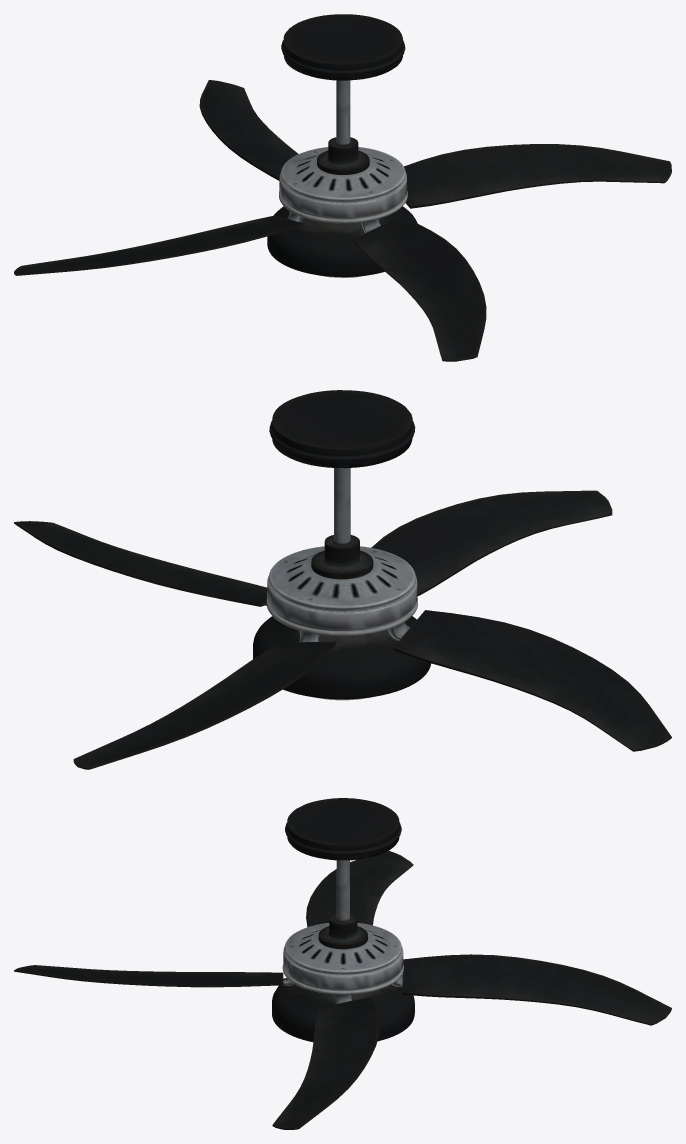
The model's file is ceiling_fan.glb.
3 renders of one model, top to bottom at view 1: azimuth 30°, elevation 25°; view 2: azimuth 150°, elevation 25°; view 3: azimuth 270°, elevation 25°, orthographic. The views are drawn at different scales.
Parts seen in each view (by area): view 1: ceiling_fan; view 2: ceiling_fan; view 3: ceiling_fan.
Part boxes in pixels (left/top/right/bottom): ceiling_fan: left=14, top=14, right=671, bottom=361; ceiling_fan: left=14, top=390, right=671, bottom=769; ceiling_fan: left=14, top=798, right=671, bottom=1129.
Bounding box in the file's own units: 1.46 × 0.5163 × 1.46.
1 material, 1 textured.
